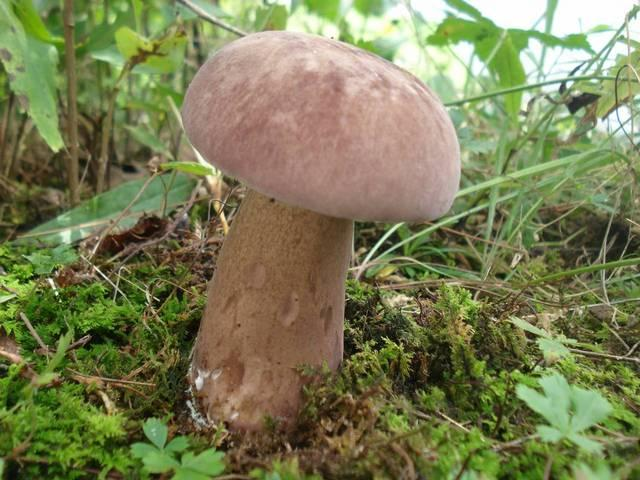Non-edible Mushroom: (178, 28, 462, 448)
